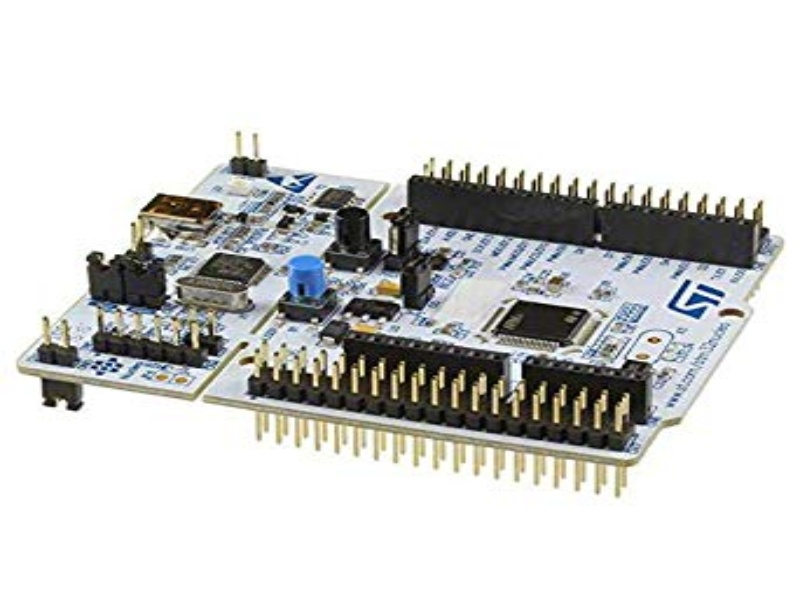stmnucleo: (30, 138, 778, 495)
